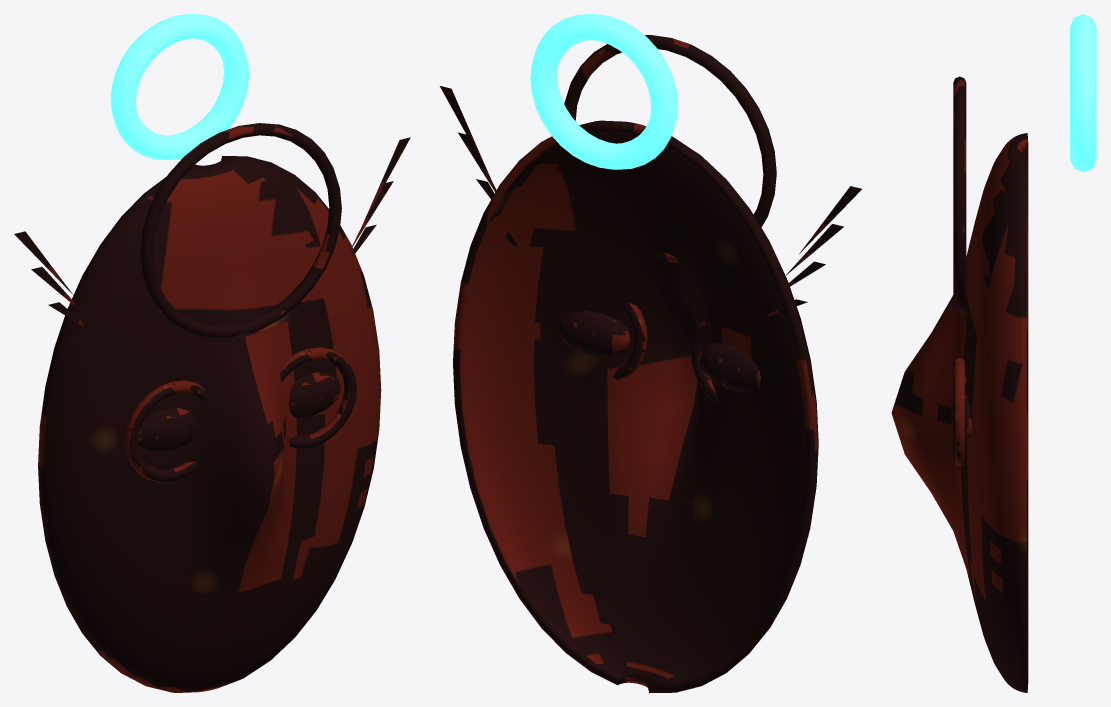
File: sun_mask_secret_pattern_cinnabar.fbx
3 views of the same model, side by side, from view 1: azimuth 30°, elevation 25°; view 2: azimuth 150°, elevation 25°; view 3: azimuth 270°, elevation 25° (orthographic). The views are drawn at different scales.
Parts seen in each view (by area): view 1: TH10_SunMask_Face, TH10_SunMask_Handle, TH10_SunMask_Brow, TH10_SunMask_EyeRim, TH10_SunMask_EyeRim.001, TH10_SunMask_Eye, TH10_SunMask_Eye.001; view 2: TH10_SunMask_Face, TH10_SunMask_Handle, TH10_SunMask_Brow, TH10_SunMask_Eye.001, TH10_SunMask_Eye, TH10_SunMask_EyeRim.001, TH10_SunMask_EyeRim; view 3: TH10_SunMask_Face, TH10_SunMask_Handle, TH10_SunMask_Brow, TH10_SunMask_EyeRim.001.
Boxes of the visible parts, bbox=[...] form: TH10_SunMask_Face: bbox=[38, 156, 381, 692]; TH10_SunMask_Handle: bbox=[110, 14, 249, 159]; TH10_SunMask_Brow: bbox=[140, 123, 341, 338]; TH10_SunMask_EyeRim: bbox=[125, 380, 206, 481]; TH10_SunMask_EyeRim.001: bbox=[280, 347, 356, 448]; TH10_SunMask_Eye: bbox=[137, 408, 197, 452]; TH10_SunMask_Eye.001: bbox=[288, 372, 340, 418]; TH10_SunMask_Face: bbox=[453, 120, 818, 692]; TH10_SunMask_Handle: bbox=[530, 14, 677, 169]; TH10_SunMask_Brow: bbox=[564, 35, 776, 262]; TH10_SunMask_Eye.001: bbox=[557, 311, 630, 357]; TH10_SunMask_Eye: bbox=[699, 342, 760, 392]; TH10_SunMask_EyeRim.001: bbox=[613, 302, 647, 379]; TH10_SunMask_EyeRim: bbox=[691, 320, 718, 403]; TH10_SunMask_Face: bbox=[891, 133, 1028, 692]; TH10_SunMask_Handle: bbox=[1070, 14, 1096, 172]; TH10_SunMask_Brow: bbox=[953, 76, 966, 309]; TH10_SunMask_EyeRim.001: bbox=[953, 357, 966, 467].
Bounding box in the file's own units: 0.21 × 0.3295 × 0.093.
2 materials, 1 textured.
